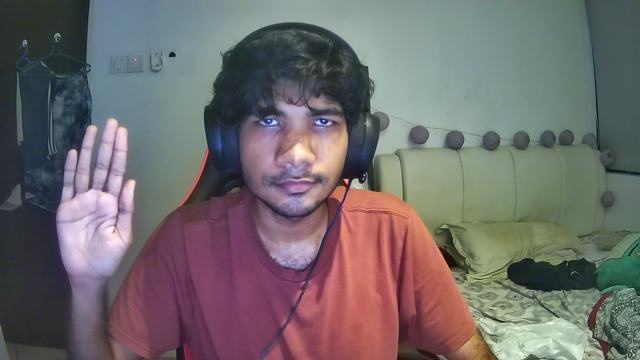Hello: (55, 118, 137, 286)
